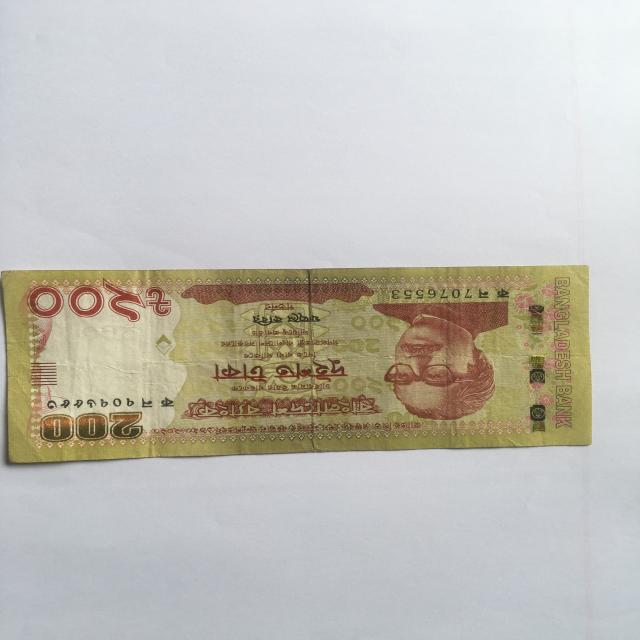Taka: (0, 258, 602, 465)
